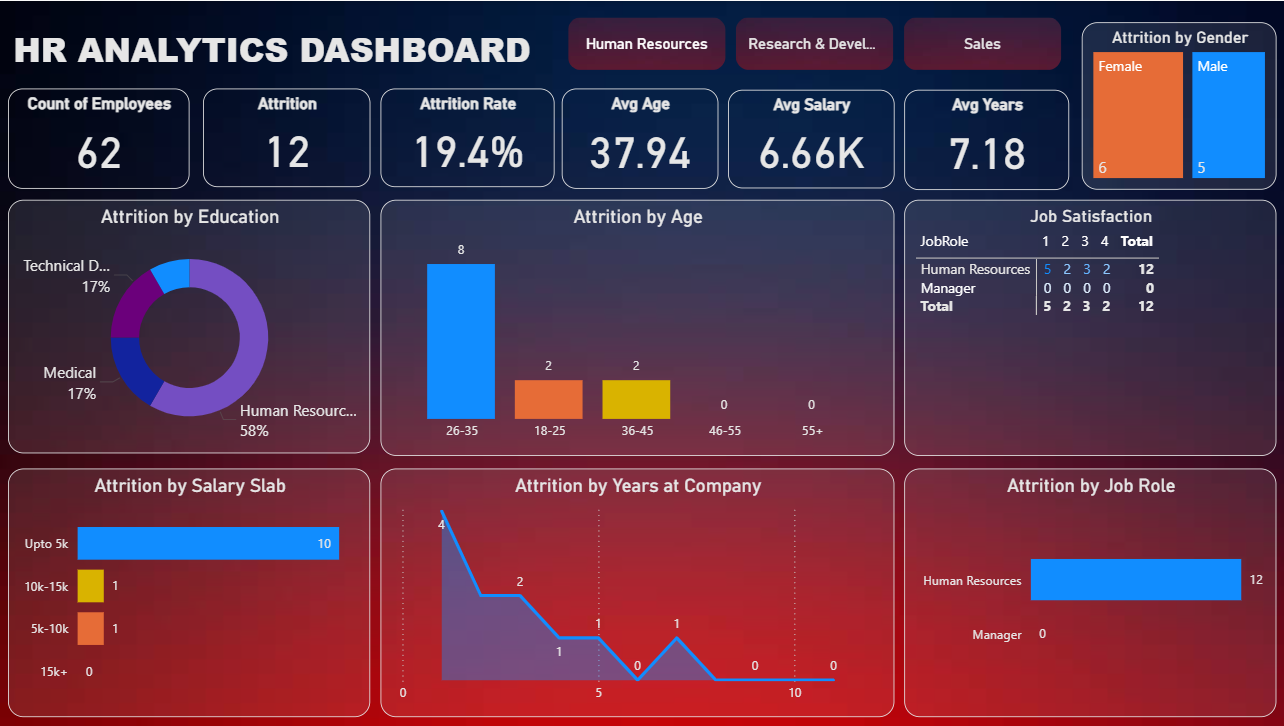

What the dashboard file says about the page in this screenshot:
{"tool":"powerbi","page":{"name":"Page 1","canvas":[1280,720],"ordinal":0},"visuals":[{"type":"card","title":"Count of Employees","fields":{"Values":["CountNonNull(HR_Analytics.EmpID)"]},"box":[9.7,84.5,174.9,96.5],"z":0},{"type":"card","title":"Attrition","fields":{"Values":["Sum(HR_Analytics.AttritionCount)"]},"box":[197.9,84.5,161.7,95.3],"z":1000},{"type":"card","title":"Attrition Rate","fields":{"Values":["HR_Analytics.Attrition Rate"]},"box":[369.2,84.5,167.7,95.3],"z":2000},{"type":"card","title":"Avg Age","fields":{"Values":["Avg(HR_Analytics.Age)"]},"box":[544.1,84.5,150.8,96.5],"z":3000},{"type":"card","title":"Avg Salary","fields":{"Values":["Avg(HR_Analytics.MonthlyIncome)"]},"box":[704.6,85.7,160.5,95.3],"z":4000},{"type":"card","title":"Avg Years","fields":{"Values":["Avg(HR_Analytics.YearsAtCompany)"]},"box":[874.7,85.7,159.3,96.5],"z":5000},{"type":"donutChart","title":"Attrition by Education","fields":{"Category":["HR_Analytics.EducationField"],"Y":["Sum(HR_Analytics.AttritionCount)"]},"box":[9.7,191.8,349.9,244.9],"z":6000},{"type":"columnChart","title":"Attrition by Age","fields":{"Y":["Sum(HR_Analytics.AttritionCount)"],"Category":["HR_Analytics.AgeGroup"]},"box":[369.2,191.8,495.8,247.3],"z":7000},{"type":"pivotTable","title":"Job Satisfaction","fields":{"Rows":["HR_Analytics.JobRole"],"Columns":["HR_Analytics.JobSatisfaction"],"Values":["Sum(HR_Analytics.AttritionCount)"]},"box":[874.7,191.8,359.5,247.3],"z":8000},{"type":"barChart","title":"Attrition by Salary Slab","fields":{"Category":["HR_Analytics.SalarySlab"],"Y":["Sum(HR_Analytics.AttritionCount)"]},"box":[9.7,451.2,349.9,240.1],"z":9000},{"type":"barChart","title":"Attrition by Job Role","fields":{"Category":["HR_Analytics.JobRole"],"Y":["Sum(HR_Analytics.AttritionCount)"]},"box":[874.7,451.2,359.5,240.1],"z":10000},{"type":"areaChart","title":"Attrition by Years at Company","fields":{"Category":["HR_Analytics.YearsAtCompany"],"Y":["Sum(HR_Analytics.AttritionCount)"]},"box":[369.2,451.2,495.8,240.1],"z":11000},{"type":"treemap","title":"Attrition by Gender","fields":{"Group":["HR_Analytics.Gender"],"Values":["Sum(HR_Analytics.AttritionCount)"]},"box":[1046,20.5,188.2,161.7],"z":12000},{"type":"textbox","box":[9.7,19.3,527.2,65.1],"z":13000},{"type":"advancedSlicerVisual","fields":{"Values":["HR_Analytics.Department"]},"box":[544.1,9.7,489.8,63.9],"z":13001}]}

Visuals, with their boxes in screenshot pixels (x1, y1, x2, y2), scaled from the page's 1280x720 canvas onto the 1284x726 screenshot:
"Count of Employees" card: crop(10, 85, 185, 183)
"Attrition" card: crop(199, 85, 361, 181)
"Attrition Rate" card: crop(370, 85, 539, 181)
"Avg Age" card: crop(546, 85, 697, 183)
"Avg Salary" card: crop(707, 86, 868, 183)
"Avg Years" card: crop(877, 86, 1037, 184)
"Attrition by Education" donutChart: crop(10, 193, 361, 440)
"Attrition by Age" columnChart: crop(370, 193, 868, 443)
"Job Satisfaction" pivotTable: crop(877, 193, 1238, 443)
"Attrition by Salary Slab" barChart: crop(10, 455, 361, 697)
"Attrition by Job Role" barChart: crop(877, 455, 1238, 697)
"Attrition by Years at Company" areaChart: crop(370, 455, 868, 697)
"Attrition by Gender" treemap: crop(1049, 21, 1238, 184)
textbox: crop(10, 19, 539, 85)
advancedSlicerVisual - HR_Analytics.Department: crop(546, 10, 1037, 74)
